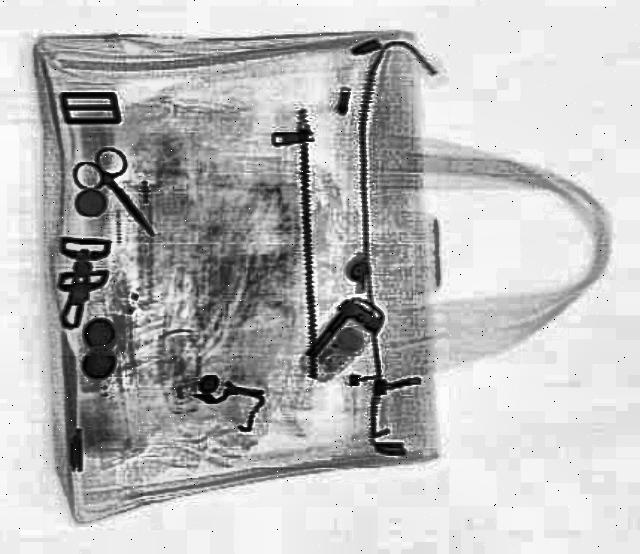Scissors: (68, 145, 182, 251)
